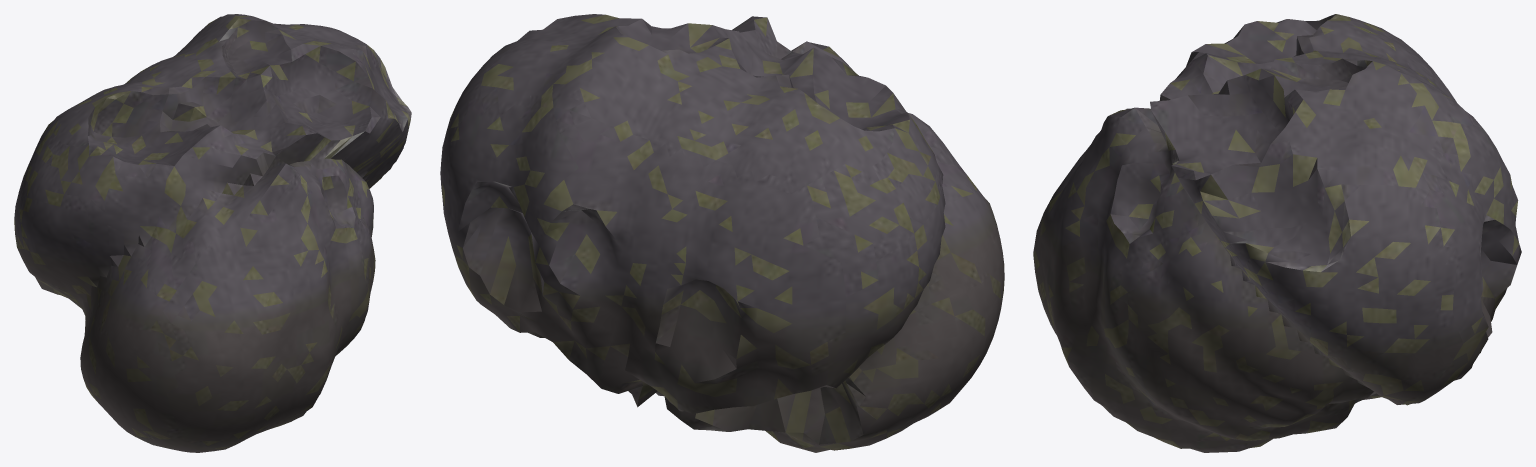
The model's file is huge-carbonic-asteroid.glb.
3 views of the same model, side by side, from view 1: azimuth 30°, elevation 25°; view 2: azimuth 150°, elevation 25°; view 3: azimuth 270°, elevation 25° (orthographic). The views are drawn at different scales.
Parts seen in each view (by area): view 1: body; view 2: body; view 3: body.
Boxes of the visible parts, <box> form: body: <box>14,14,411,452</box>; body: <box>440,14,1004,452</box>; body: <box>1033,14,1521,452</box>.
Size of the model in its own units: 11.49 by 10.18 by 10.53.
Materials: 1 (1 with a texture image).
